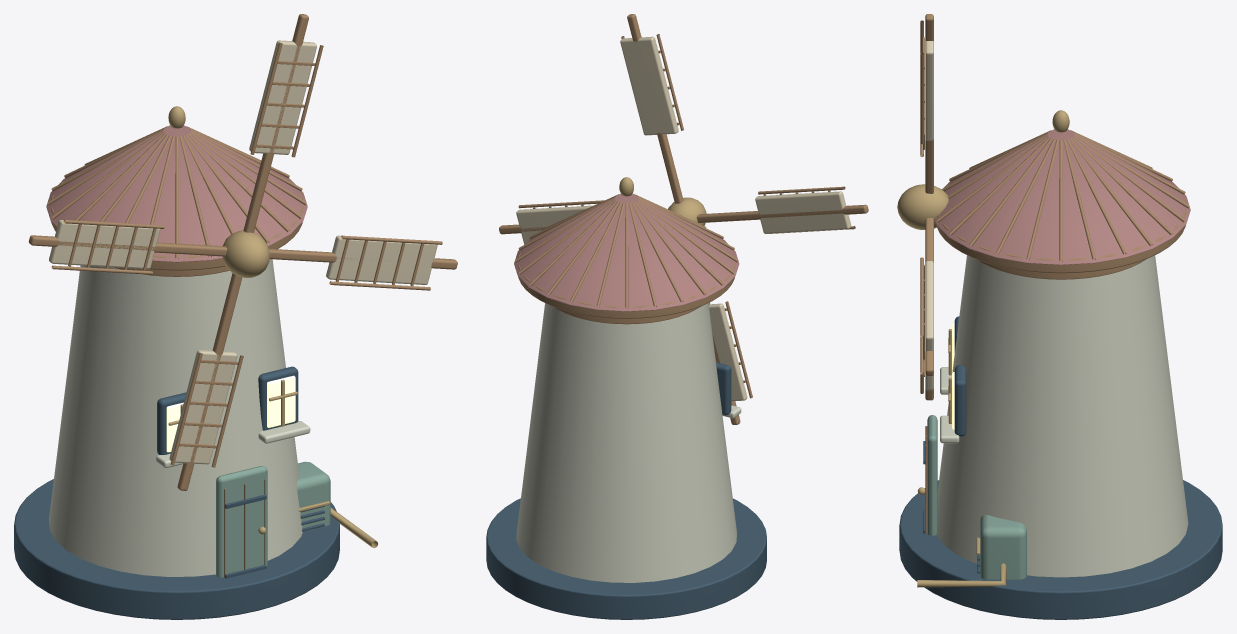
The model's file is windmill.glb.
3 renders of one model, left to right at view 1: azimuth 30°, elevation 25°; view 2: azimuth 150°, elevation 25°; view 3: azimuth 270°, elevation 25°, orthographic. The views are drawn at different scales.
Visible parts, largest first — view 1: windmill · Warm porcelain, windmill · Midnight enamel, Rose roof, Rotor · Woven sail linen, Rotor · Old honey wood, windmill · Old honey wood, windmill · Sage ceramic, Rotor hub, windmill · Window glow, windmill · Dull brass; view 2: windmill · Warm porcelain, Rose roof, windmill · Midnight enamel, Rotor · Woven sail linen, windmill · Old honey wood, Rotor · Old honey wood, Rotor hub; view 3: windmill · Warm porcelain, Rose roof, windmill · Midnight enamel, windmill · Old honey wood, windmill · Sage ceramic, Rotor · Old honey wood, Rotor · Woven sail linen, Rotor hub, windmill · Dull brass.
Boxes of the visible parts, x1,y1,x2,y2 form: windmill · Warm porcelain: (49,259,310,576); windmill · Midnight enamel: (14,366,339,619); Rose roof: (46,125,307,262); Rotor · Woven sail linen: (49,40,437,464); Rotor · Old honey wood: (28,14,457,490); windmill · Old honey wood: (47,125,306,577); windmill · Sage ceramic: (216,461,330,577); Rotor hub: (222,230,269,277); windmill · Window glow: (166,375,295,452); windmill · Dull brass: (168,106,377,548); windmill · Warm porcelain: (516,303,741,582); Rose roof: (514,193,739,311); windmill · Midnight enamel: (486,362,766,619); Rotor · Woven sail linen: (516,36,851,401); windmill · Old honey wood: (515,194,738,324); Rotor · Old honey wood: (499,14,868,424); Rotor hub: (668,197,706,225); windmill · Warm porcelain: (936,255,1188,577); Rose roof: (934,129,1190,264); windmill · Midnight enamel: (899,316,1222,619); windmill · Old honey wood: (925,130,1189,533); windmill · Sage ceramic: (927,415,1026,579); Rotor · Old honey wood: (920,14,933,400); Rotor · Woven sail linen: (925,41,933,390); Rotor hub: (897,184,948,229); windmill · Dull brass: (917,110,1069,587).
Bounding box in the file's own units: 6.8 × 8.7 × 4.53.
